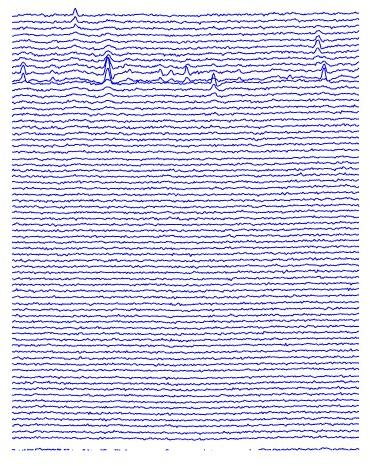defect: (155, 64, 195, 85), (102, 48, 117, 78), (206, 68, 219, 96), (66, 1, 80, 27), (18, 57, 29, 85), (318, 59, 330, 81), (312, 30, 322, 56)
